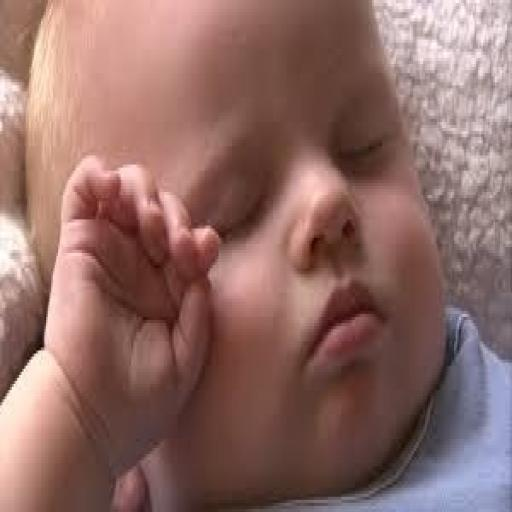sleeping: (0, 0, 509, 509)
